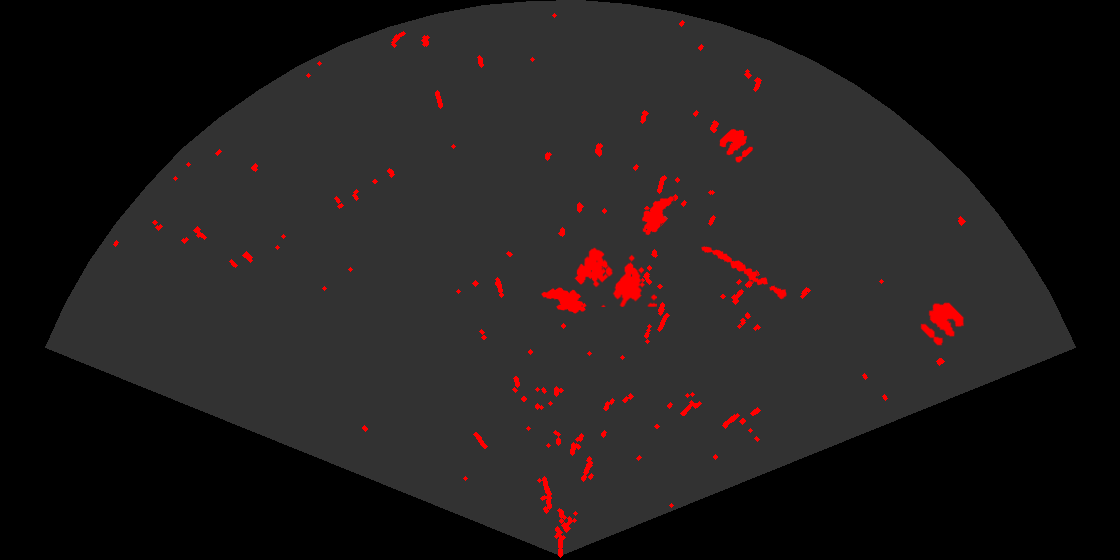AUV: (640, 195, 675, 237), (540, 286, 588, 315)
ball: (919, 301, 966, 347), (718, 127, 755, 164)
cage: (573, 246, 657, 307)
chain: (700, 245, 788, 301)
